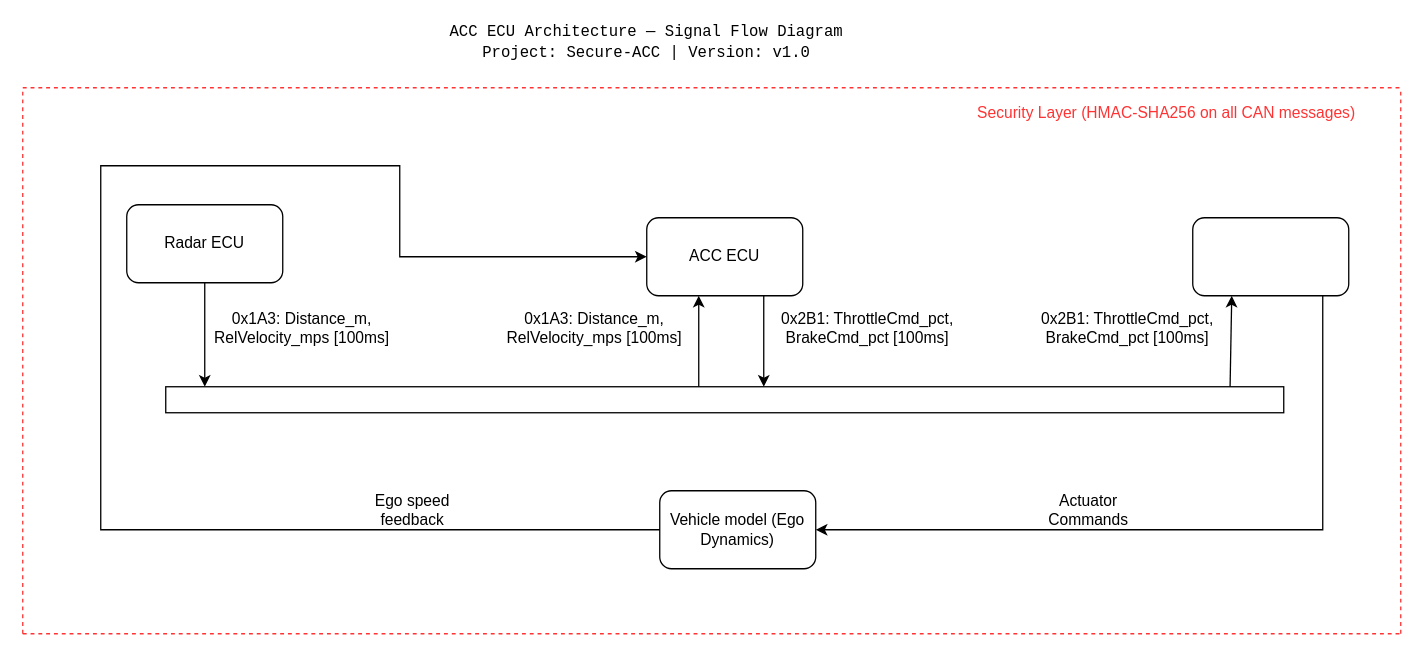
Some shapes in this 1425 by 658 pixel diagram are drawn without their labels. Here are the shapes that lost their labels. From the top down, the centre of each, then its label:
the point at 1270,256: Brake ECU
the point at 724,399: CAN BUS (500 kbps)
